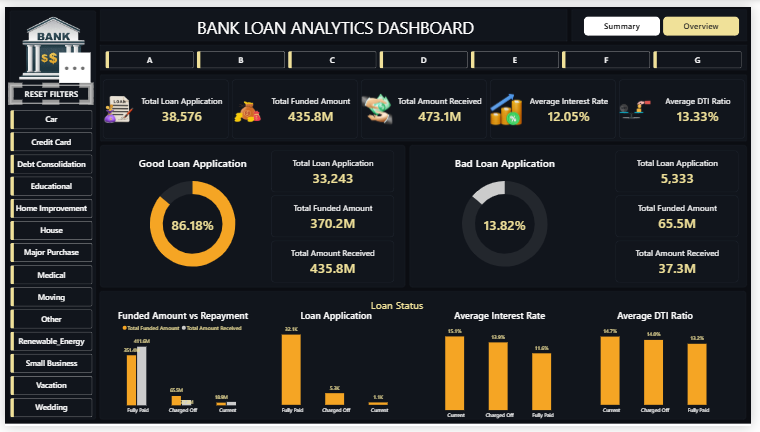

This screenshot's page, from the dashboard's own definition file:
{"tool":"powerbi","page":{"name":"Summary","canvas":[1920,1080],"ordinal":0},"visuals":[{"type":"cardVisual","fields":{"Data":["financial_loan.Total Loan Application","financial_loan.Total Funded Amount","financial_loan.Total Amount Received","financial_loan.Average Interest Rate","financial_loan.Average DTI Rate"]},"box":[250,187.8,1653.3,153.3],"z":0},{"type":"donutChart","title":"Good Loan Application","fields":{"Category":["financial_loan.Good_vs_Bad_Loan"],"Y":["financial_loan.Total Loan Application"]},"box":[272.9,368.6,421.4,342.9],"z":1000},{"type":"donutChart","title":"Bad Loan Application","fields":{"Category":["financial_loan.Good_vs_Bad_Loan"],"Y":["financial_loan.Total Loan Application"]},"box":[1077.1,368.6,421.4,342.9],"z":2000},{"type":"cardVisual","fields":{"Data":["financial_loan.Good Loan %"]},"box":[394.3,514.3,180,88.6],"z":3000},{"type":"cardVisual","fields":{"Data":["financial_loan.Bad Loan %"]},"box":[1197.1,514.3,180,88.6],"z":4000},{"type":"cardVisual","fields":{"Data":["financial_loan.Total Loan Application","financial_loan.Total Funded Amount","financial_loan.Total Amount Received"],"Rows":["financial_loan.Good_vs_Bad_Loan"]},"box":[651.4,368.6,350,342.9],"z":5000},{"type":"cardVisual","fields":{"Data":["financial_loan.Total Loan Application","financial_loan.Total Funded Amount","financial_loan.Total Amount Received"],"Rows":["financial_loan.Good_vs_Bad_Loan"]},"box":[1538.6,368.6,350,342.9],"z":6000},{"type":"clusteredColumnChart","title":"Funded Amount vs Repayment","fields":{"Category":["financial_loan.LOAN_STATUS"],"Y":["financial_loan.Total Funded Amount","financial_loan.Total Amount Received"]},"box":[250,761.4,412.9,305.7],"z":7000},{"type":"clusteredColumnChart","title":"Loan Application","fields":{"Category":["financial_loan.LOAN_STATUS"],"Y":["financial_loan.Total Loan Application"]},"box":[651.2,761.2,401.2,305],"z":8000},{"type":"textbox","box":[941.2,747.5,222.5,112.5],"z":9000},{"type":"clusteredColumnChart","title":"Average Interest Rate","fields":{"Category":["financial_loan.LOAN_STATUS"],"Y":["financial_loan.Average Interest Rate"]},"box":[1072.9,761.4,401.4,318.6],"z":10000},{"type":"clusteredColumnChart","title":"Average DTI Ratio","fields":{"Category":["financial_loan.LOAN_STATUS"],"Y":["financial_loan.Average DTI Ratio"]},"box":[1473.8,761.2,401.2,305],"z":11000},{"type":"image","box":[0,0,250,210],"z":12000},{"type":"advancedSlicerVisual","fields":{"Values":["financial_loan.PURPOSE"]},"box":[14.3,264.3,211.4,802.9],"z":13000},{"type":"advancedSlicerVisual","fields":{"Values":["financial_loan.GRADE"]},"box":[260,113,1643,44],"z":14000},{"type":"actionButton","box":[14.3,200,211.4,50],"z":15000},{"type":"textbox","box":[250,24.3,1197.1,68.6],"z":16000},{"type":"pageNavigator","box":[1488.6,24.3,400,50],"z":17000}]}

Visuals, with their boxes in screenshot pixels (x1, y1, x2, y2), scaled from the page's 1920x1080 canvas onto the 760x432 screenshot:
cardVisual - financial_loan.Total Loan Application x financial_loan.Total Funded Amount: (99, 75, 753, 136)
"Good Loan Application" donutChart: (108, 147, 275, 285)
"Bad Loan Application" donutChart: (426, 147, 593, 285)
cardVisual - financial_loan.Good Loan %: (156, 206, 227, 241)
cardVisual - financial_loan.Bad Loan %: (474, 206, 545, 241)
cardVisual - financial_loan.Total Loan Application x financial_loan.Total Funded Amount: (258, 147, 396, 285)
cardVisual - financial_loan.Total Loan Application x financial_loan.Total Funded Amount: (609, 147, 748, 285)
"Funded Amount vs Repayment" clusteredColumnChart: (99, 305, 262, 427)
"Loan Application" clusteredColumnChart: (258, 304, 417, 426)
textbox: (373, 299, 461, 344)
"Average Interest Rate" clusteredColumnChart: (425, 305, 584, 431)
"Average DTI Ratio" clusteredColumnChart: (583, 304, 742, 426)
image: (0, 0, 99, 84)
advancedSlicerVisual - financial_loan.PURPOSE: (6, 106, 89, 427)
advancedSlicerVisual - financial_loan.GRADE: (103, 45, 753, 63)
actionButton: (6, 80, 89, 100)
textbox: (99, 10, 573, 37)
pageNavigator: (589, 10, 748, 30)
